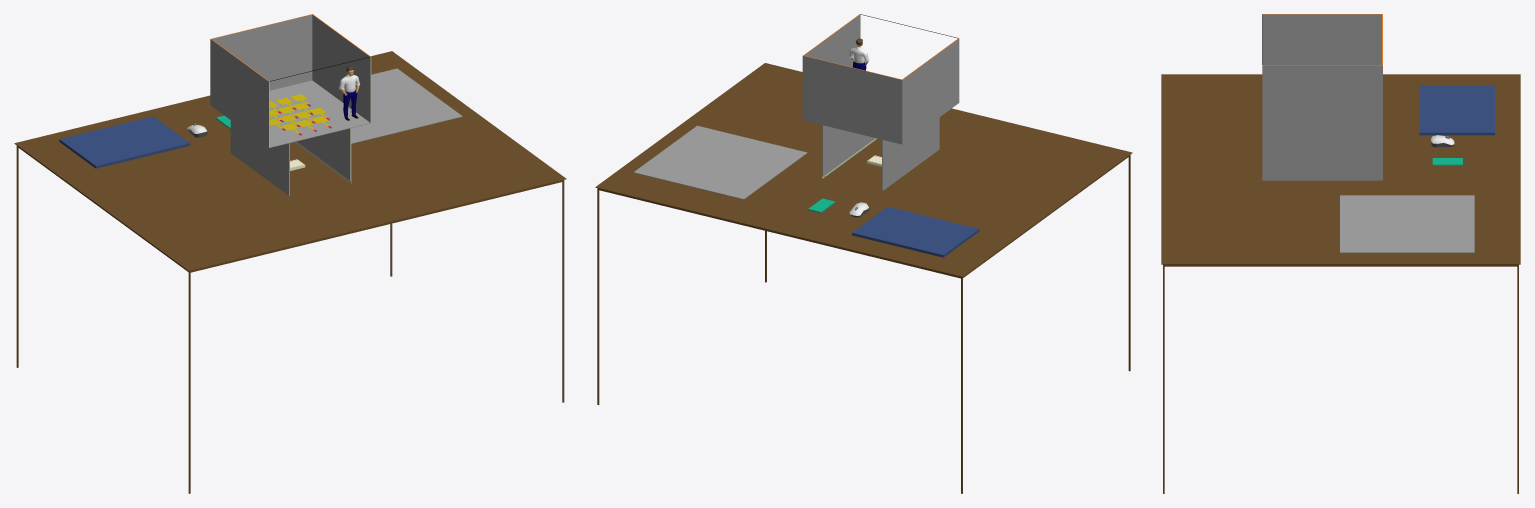
File: Bathroom Demo (240418).obj
The picture shows the model from 3 angles, left to right: view 1: azimuth 30°, elevation 25°; view 2: azimuth 150°, elevation 25°; view 3: azimuth 270°, elevation 25°; orthographic projection. The views are drawn at different scales.
Parts seen in each view (by area): view 1: table349, wall24 room23, general.box363, wall27 exterior, general.box347, wall25 room23, floor room23, wall209 exterior, wall206 room204, general.man332; view 2: table349, general.box363, wall24 exterior, wall27 exterior, general.box347, wall209 exterior, wall25 room23, wall206 room204; view 3: table349, wall25 exterior, general.box363, wall27 room23, wall206 exterior, general.box347.
Part boxes in pixels (bbox=[...]): table349: bbox=[14, 51, 566, 493]; wall24 room23: bbox=[212, 14, 312, 90]; general.box363: bbox=[351, 68, 462, 143]; wall27 exterior: bbox=[210, 39, 268, 147]; general.box347: bbox=[59, 116, 190, 168]; wall25 room23: bbox=[312, 14, 370, 122]; floor room23: bbox=[269, 80, 369, 147]; wall209 exterior: bbox=[230, 120, 289, 195]; wall206 room204: bbox=[295, 106, 350, 180]; general.man332: bbox=[339, 67, 360, 120]; table349: bbox=[595, 63, 1132, 493]; general.box363: bbox=[633, 125, 807, 199]; wall24 exterior: bbox=[802, 56, 902, 144]; wall27 exterior: bbox=[902, 38, 959, 144]; general.box347: bbox=[852, 206, 979, 257]; wall209 exterior: bbox=[882, 117, 939, 190]; wall25 room23: bbox=[804, 14, 860, 67]; wall206 room204: bbox=[823, 125, 875, 175]; table349: bbox=[1161, 74, 1520, 493]; wall25 exterior: bbox=[1262, 65, 1382, 133]; general.box363: bbox=[1340, 195, 1474, 252]; wall27 room23: bbox=[1263, 14, 1381, 64]; wall206 exterior: bbox=[1262, 133, 1382, 180]; general.box347: bbox=[1419, 85, 1494, 135].
Bounding box in the file's own units: 15 × 13.12 × 12.
